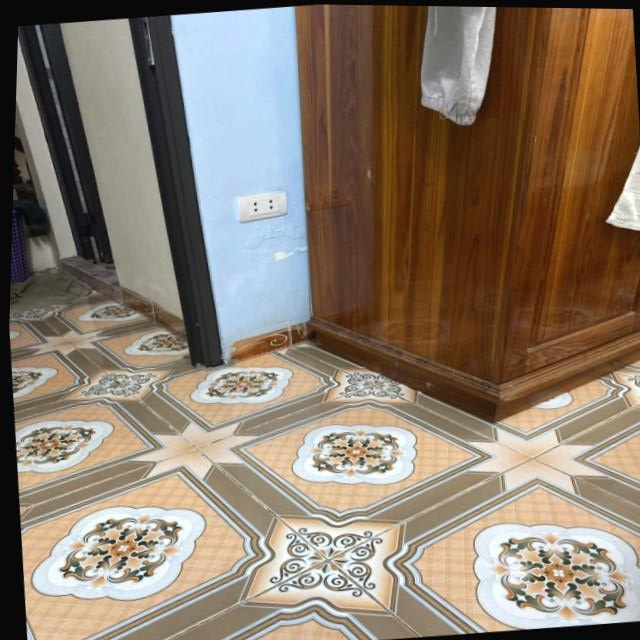outlet: (235, 190, 288, 225)
